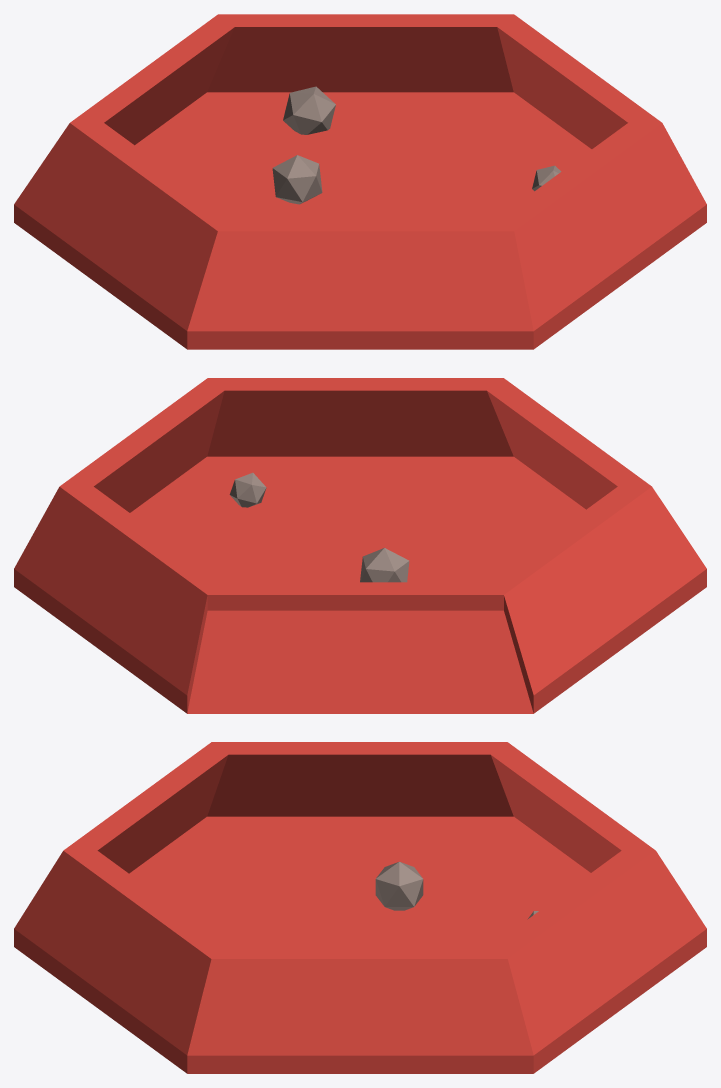
The model's file is CATPLATE.fbx.
3 renders of one model, top to bottom at view 1: azimuth 30°, elevation 25°; view 2: azimuth 150°, elevation 25°; view 3: azimuth 270°, elevation 25°, orthographic.
Parts seen in each view (by area): view 1: Circle.009; view 2: Circle.009; view 3: Circle.009.
Part boxes in pixels (x1=…): Circle.009: x1=14, y1=14, x2=706, y2=349; Circle.009: x1=14, y1=378, x2=706, y2=713; Circle.009: x1=14, y1=742, x2=706, y2=1073.
Bounding box in the file's own units: 173 × 31.51 × 200.
